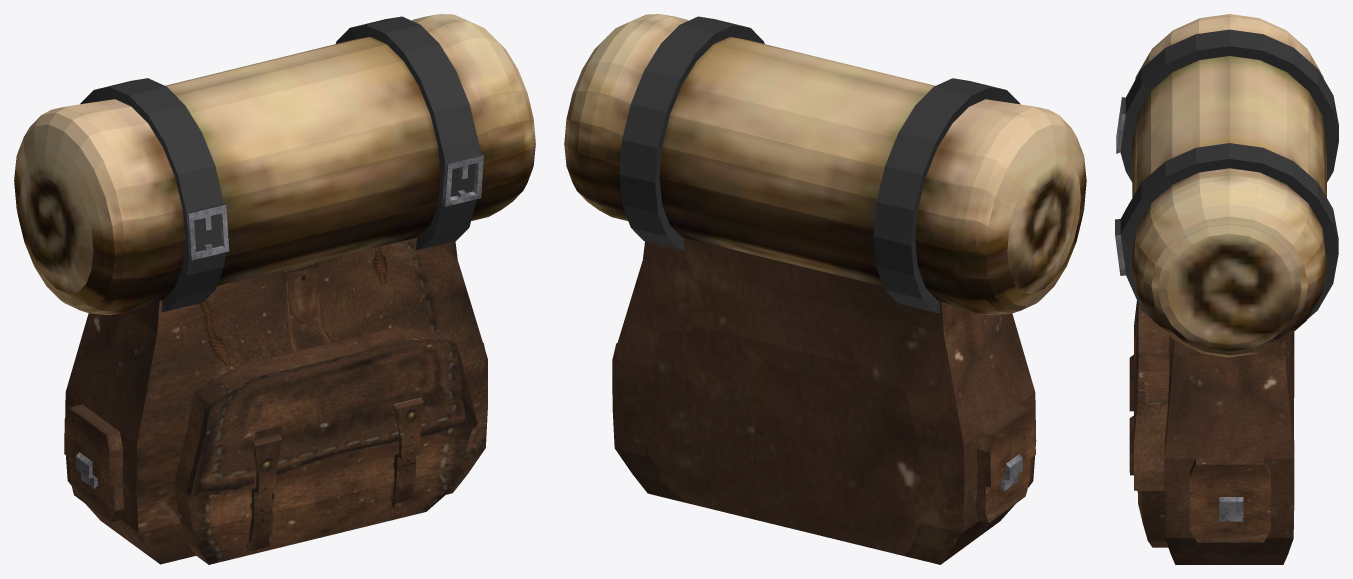
Rendered from Mochila.fbx.
3 views of the same model, side by side, from view 1: azimuth 30°, elevation 25°; view 2: azimuth 150°, elevation 25°; view 3: azimuth 270°, elevation 25° (orthographic). The views are drawn at different scales.
Visible parts, largest first — view 1: Mochila; view 2: Mochila; view 3: Mochila.
Part boxes in pixels (bbox=[...]): Mochila: bbox=[14, 14, 535, 564]; Mochila: bbox=[564, 14, 1086, 564]; Mochila: bbox=[1115, 14, 1338, 564].
Size of the model in its own units: 688 by 685 by 331.
